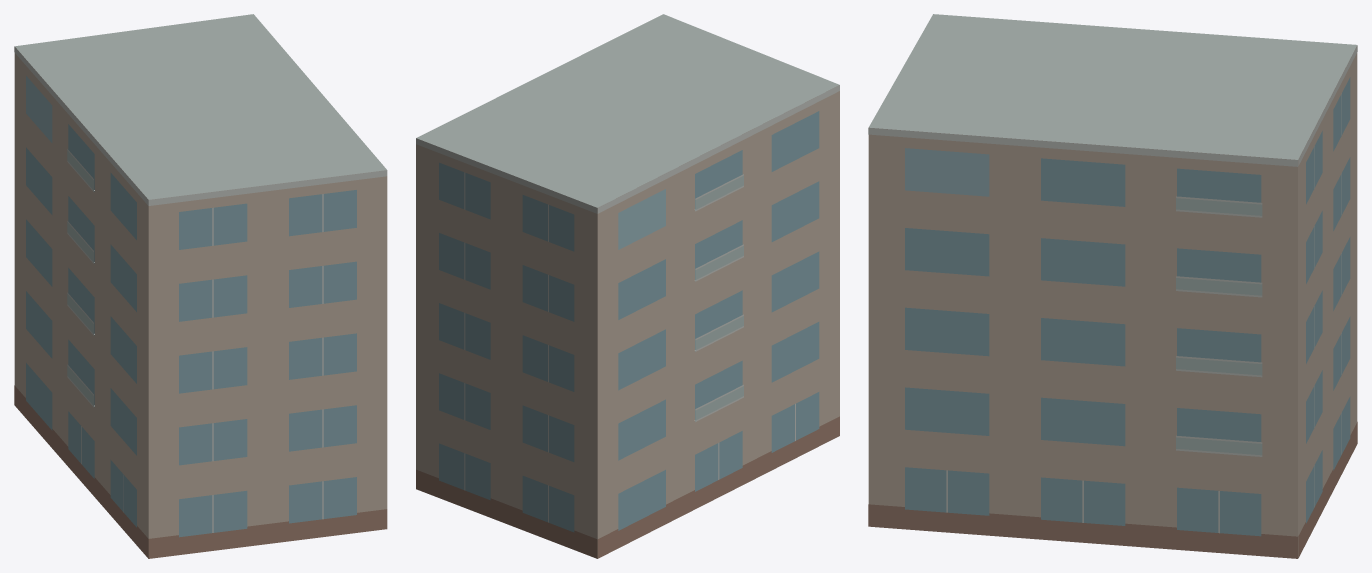
The model's file is survey-upis-32991102.glb.
The picture shows the model from 3 angles, left to right: view 1: azimuth 30°, elevation 25°; view 2: azimuth 150°, elevation 25°; view 3: azimuth 270°, elevation 25°; orthographic projection. The views are drawn at different scales.
Visible parts, largest first — view 1: survey-upis-32991102.tmp; view 2: survey-upis-32991102.tmp; view 3: survey-upis-32991102.tmp.
Boxes of the visible parts, box(x1,y1,x2,y2) form: survey-upis-32991102.tmp: box(14, 14, 387, 558); survey-upis-32991102.tmp: box(416, 14, 839, 558); survey-upis-32991102.tmp: box(868, 14, 1357, 558).
Size of the model in its own units: 11.08 by 14.1 by 15.68.
